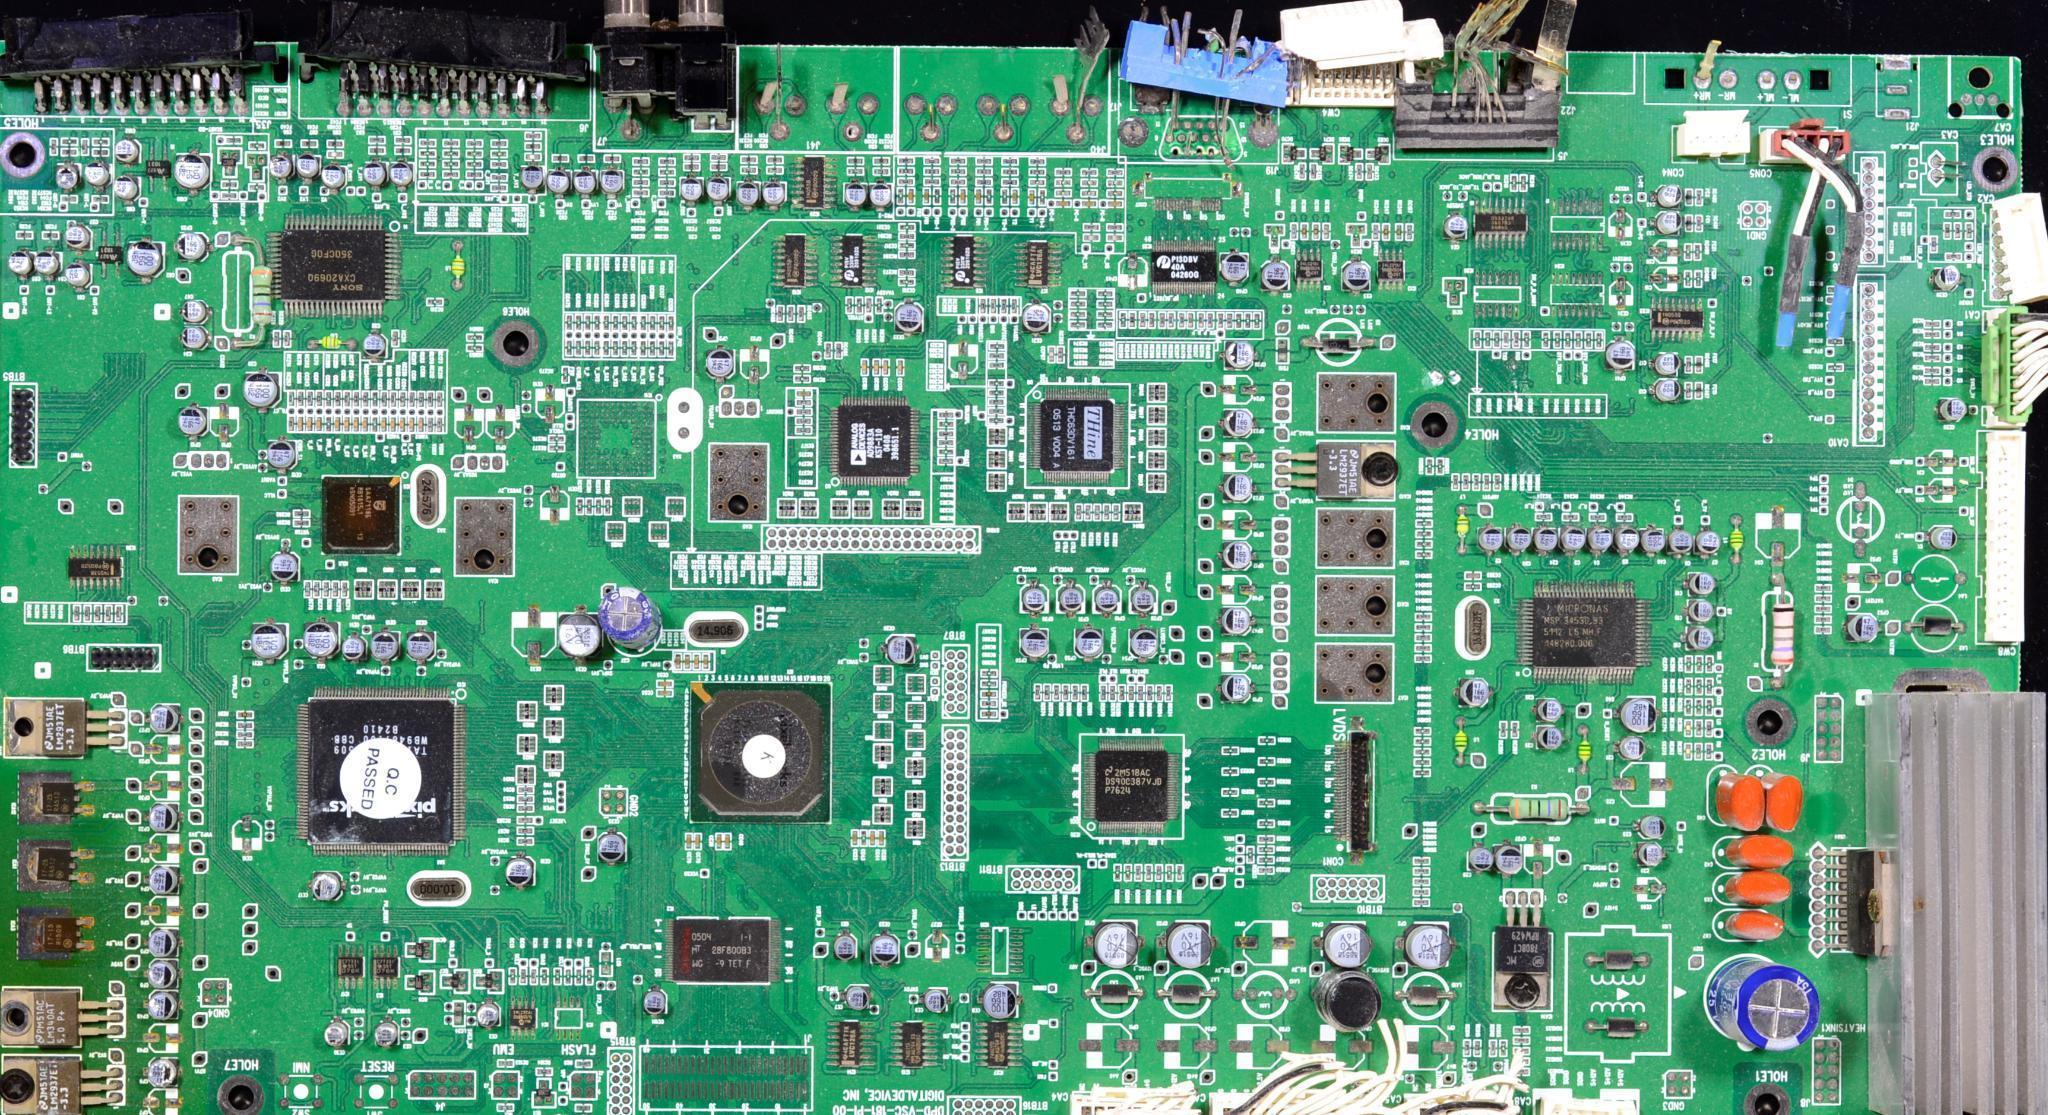Capacitor: (1164, 915, 1231, 967), (1077, 923, 1152, 969), (550, 612, 619, 658), (155, 402, 229, 442), (1003, 628, 1066, 669), (1402, 924, 1461, 968), (1224, 326, 1268, 379), (259, 429, 311, 473), (296, 868, 354, 906), (891, 298, 938, 344), (142, 1047, 190, 1091), (137, 693, 193, 732), (241, 368, 291, 409), (1529, 716, 1585, 751), (1449, 672, 1503, 709), (581, 831, 635, 866), (1122, 625, 1163, 671), (306, 616, 344, 666), (244, 617, 290, 658), (410, 614, 448, 663), (917, 984, 962, 1023), (140, 957, 204, 983), (701, 341, 749, 375), (263, 551, 311, 585), (1125, 580, 1166, 620), (1324, 920, 1366, 960), (1841, 609, 1890, 643), (167, 313, 212, 350), (631, 978, 671, 1017), (137, 863, 189, 893), (1011, 584, 1055, 619), (169, 289, 220, 318), (141, 918, 194, 948), (982, 980, 1022, 1016), (1217, 473, 1262, 505), (1606, 338, 1642, 377), (866, 935, 908, 970), (1077, 619, 1114, 657), (1537, 692, 1572, 732), (174, 151, 209, 191), (1617, 702, 1661, 732), (143, 800, 193, 827), (1334, 260, 1372, 294), (505, 854, 538, 894), (172, 230, 211, 262), (1215, 670, 1256, 702), (1222, 409, 1263, 440), (1929, 264, 1965, 296), (372, 628, 405, 663), (1262, 257, 1292, 295), (1091, 582, 1124, 616), (1224, 537, 1260, 569), (1052, 584, 1090, 613), (1935, 397, 1975, 424), (1634, 815, 1674, 842), (1221, 610, 1259, 638), (1438, 210, 1471, 242), (1220, 251, 1252, 283), (839, 982, 878, 1006), (833, 928, 870, 955), (1496, 844, 1525, 877), (1935, 520, 1964, 553), (1666, 525, 1695, 555), (1635, 843, 1669, 868), (1654, 376, 1684, 404), (114, 170, 140, 202), (1654, 210, 1685, 236), (705, 175, 730, 208), (52, 162, 79, 191), (596, 168, 624, 195), (1696, 529, 1725, 556), (319, 164, 349, 189), (843, 179, 869, 209), (1685, 568, 1716, 595), (292, 153, 321, 179), (1587, 527, 1615, 553), (269, 152, 294, 182), (388, 159, 413, 189), (570, 167, 596, 195), (1614, 526, 1640, 554), (1641, 529, 1668, 555), (1653, 351, 1681, 376), (1688, 600, 1719, 624), (115, 137, 139, 167), (84, 160, 110, 187), (1686, 627, 1719, 648), (136, 1002, 177, 1019), (1477, 528, 1504, 553), (1468, 848, 1493, 873), (545, 169, 571, 194), (63, 226, 89, 251), (1535, 525, 1560, 550), (1506, 528, 1532, 553), (521, 164, 545, 191), (680, 176, 702, 204), (737, 179, 759, 208), (869, 183, 894, 208), (761, 181, 784, 207), (351, 630, 372, 659), (363, 163, 387, 186), (1659, 184, 1682, 207), (60, 193, 82, 204), (90, 193, 112, 204)
Connector: (1967, 427, 2048, 663), (1981, 185, 2048, 312)
IC: (1068, 731, 1194, 850), (268, 217, 419, 309), (1524, 587, 1647, 673), (1028, 384, 1127, 473), (829, 396, 920, 474), (45, 540, 138, 587), (1150, 238, 1215, 294), (1644, 294, 1706, 340), (793, 153, 834, 213), (1474, 206, 1534, 246), (1375, 251, 1414, 290), (1296, 254, 1326, 286), (146, 158, 172, 178)
Resistor: (47, 134, 61, 156), (59, 135, 81, 145), (92, 136, 110, 147), (249, 140, 268, 150), (80, 137, 89, 155)
Transistor: (1344, 222, 1371, 254), (216, 146, 240, 178), (1263, 222, 1288, 255), (246, 152, 271, 183)
